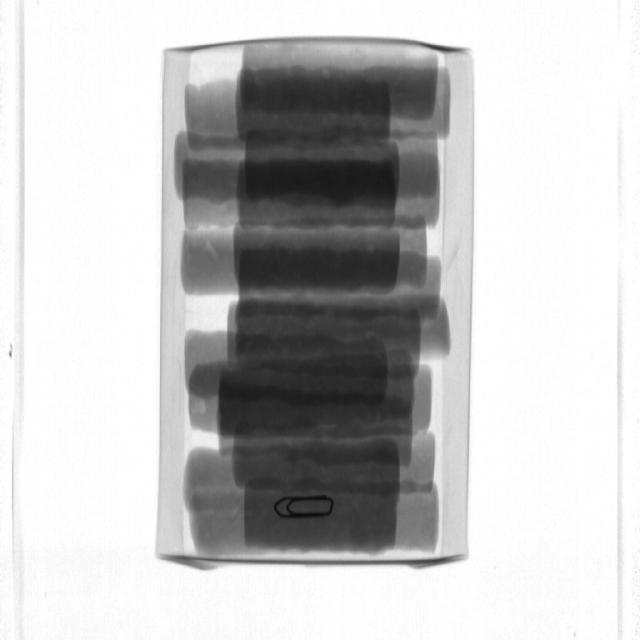ym: (276, 495, 337, 519)
